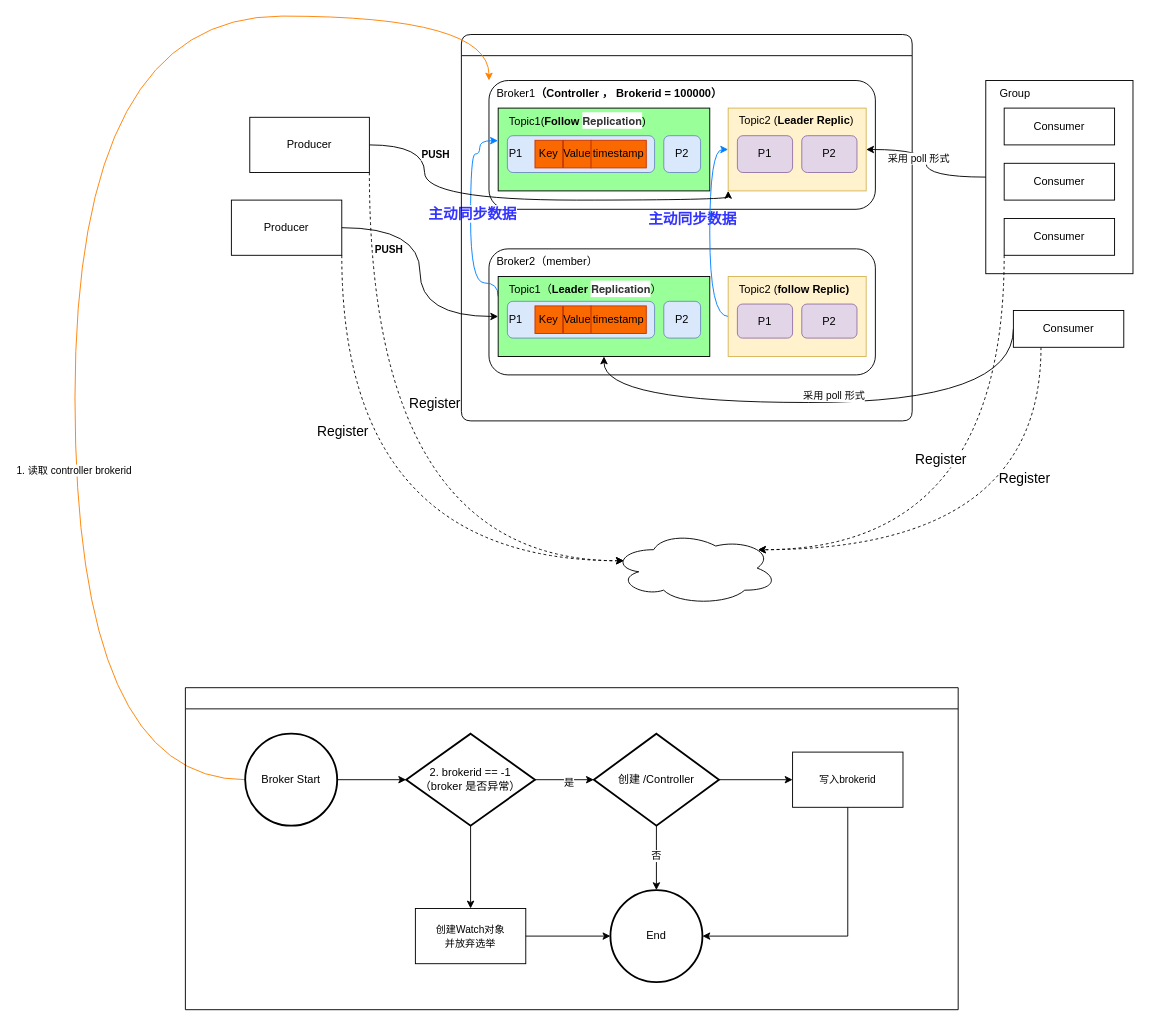
This 1149x1026 diagram has some shape labels left out. Here are the shapes that lost their labels. From the top down, the centre of each, then its label:
(686,227): Kafka Cluster
(694,567): Zookeeper 集群
(571,848): Controller 选举过程
